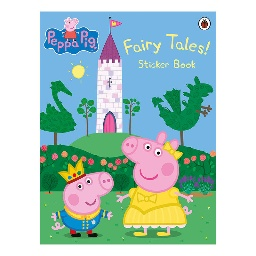Peppa: (117, 133, 195, 238)
